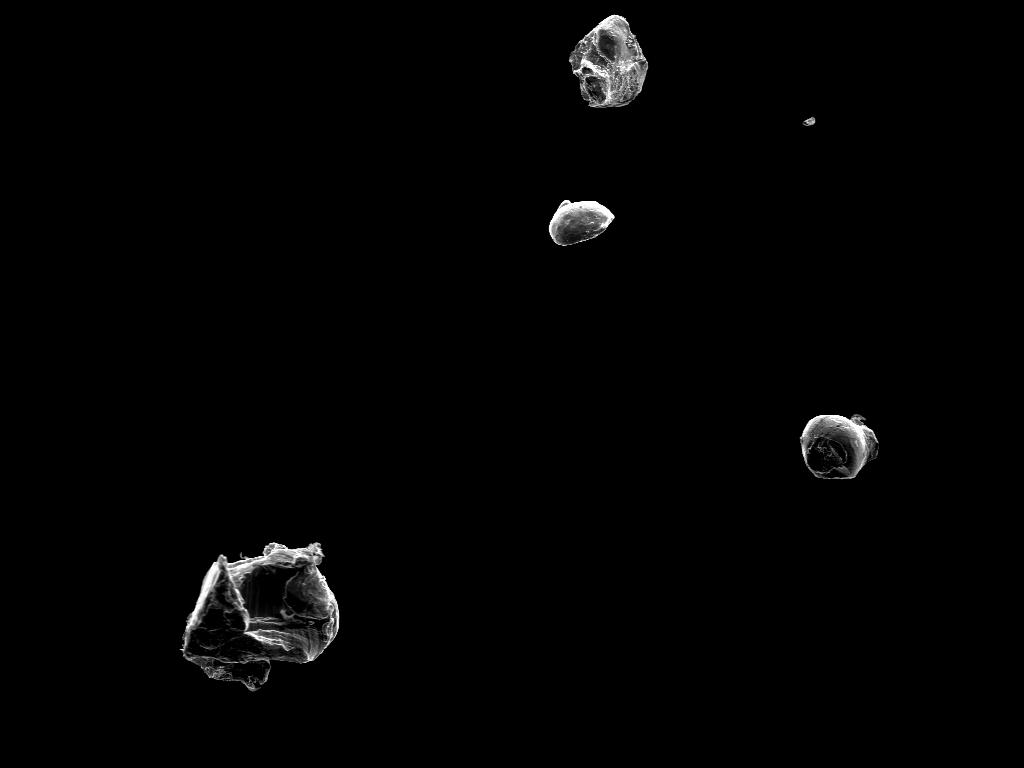Powder: (184, 542, 338, 690), (570, 14, 648, 108), (800, 414, 878, 479), (548, 200, 614, 245)
